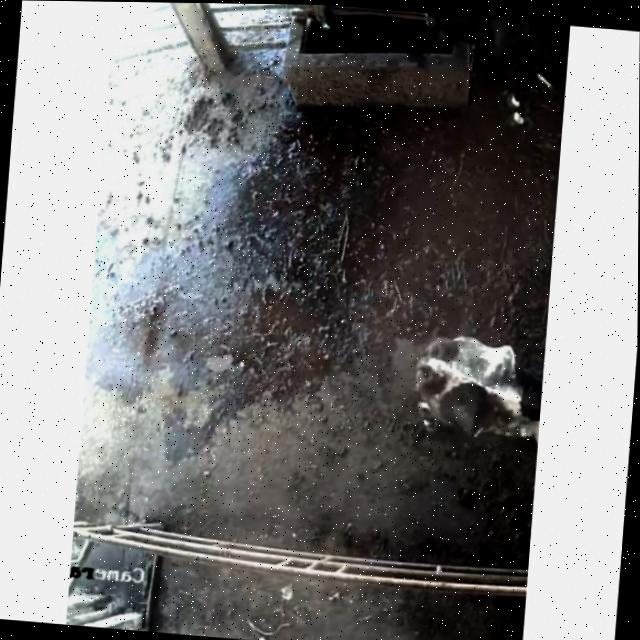drink: (398, 11, 508, 90)
